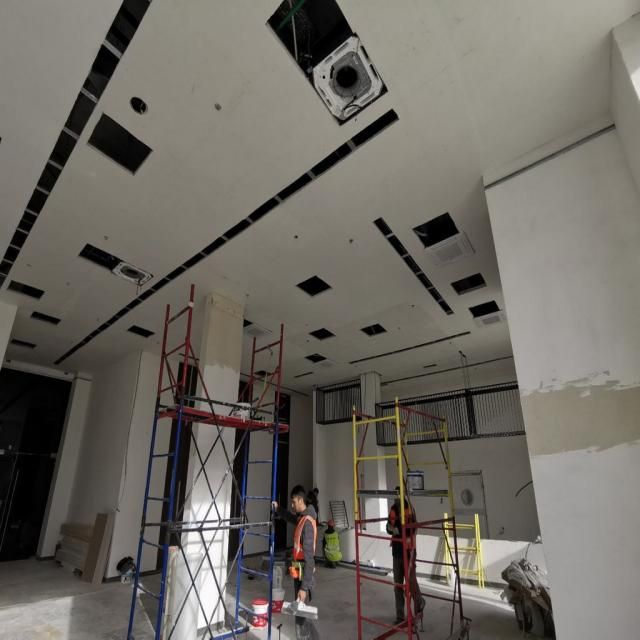Helmet: (329, 520, 336, 530)
NoHelmet: (292, 485, 309, 515), (313, 489, 321, 498)
